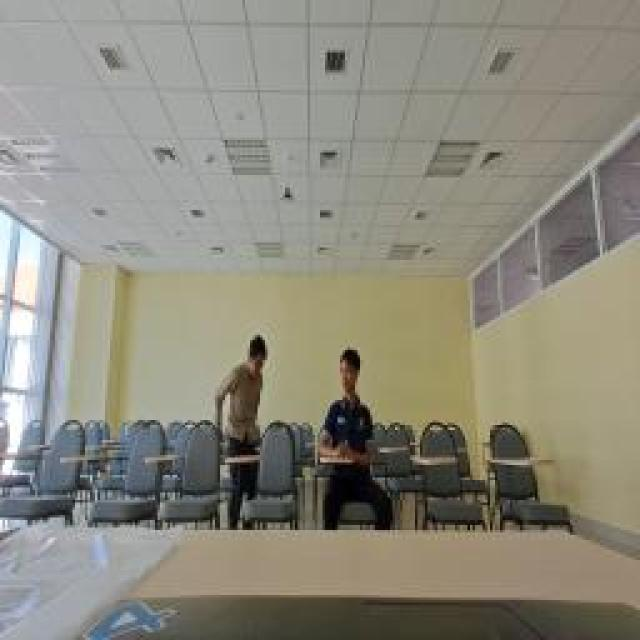study: (318, 348, 388, 532)
